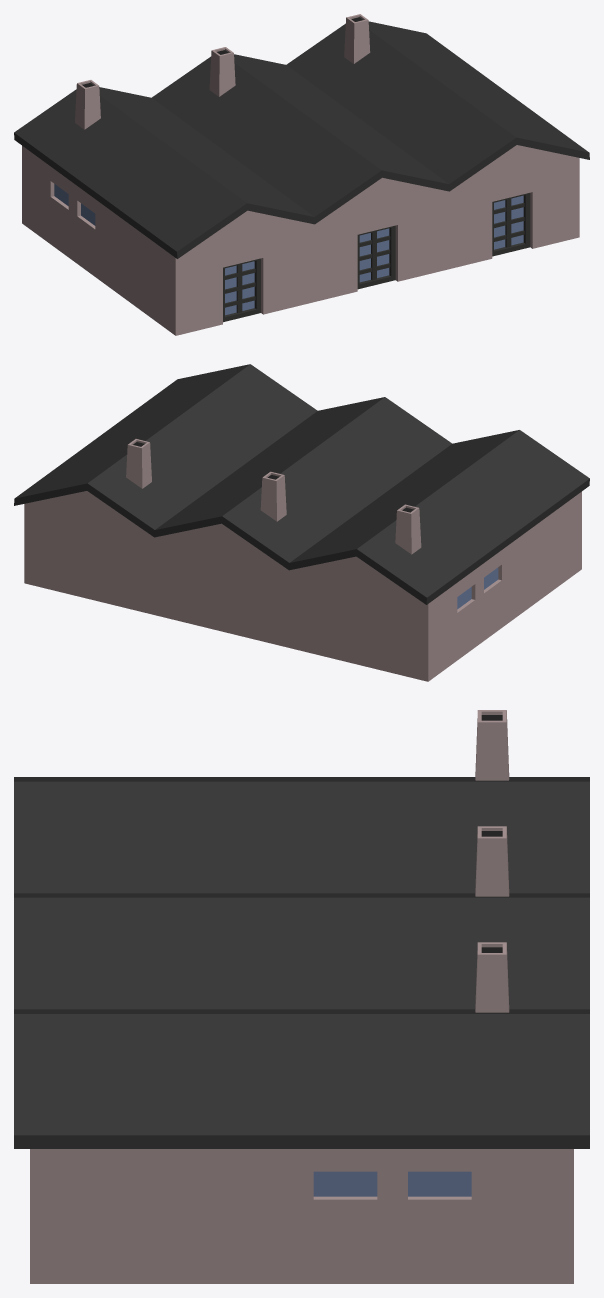
File: FactoryBuilding_03.fbx
The picture shows the model from 3 angles, top to bottom: view 1: azimuth 30°, elevation 25°; view 2: azimuth 150°, elevation 25°; view 3: azimuth 270°, elevation 25°; orthographic projection. The views are drawn at different scales.
Parts seen in each view (by area): view 1: FactoryBuilding_03; view 2: FactoryBuilding_03; view 3: FactoryBuilding_03.
Boxes of the visible parts, bbox=[...] form: FactoryBuilding_03: bbox=[14, 14, 589, 335]; FactoryBuilding_03: bbox=[14, 364, 589, 681]; FactoryBuilding_03: bbox=[14, 710, 589, 1283].
Size of the model in its own units: 25.7 by 8.64 by 17.57.
